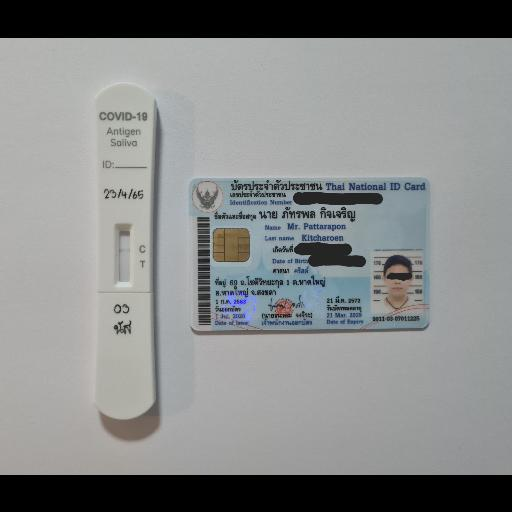Neg: (92, 82, 158, 420)
